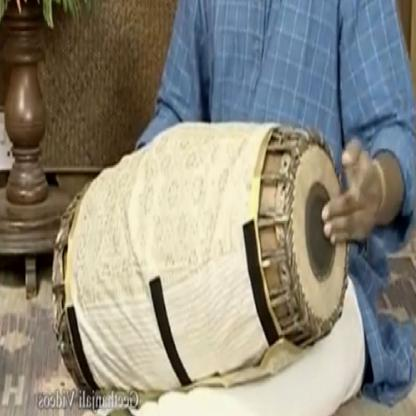Mridangam: (35, 118, 355, 405)
